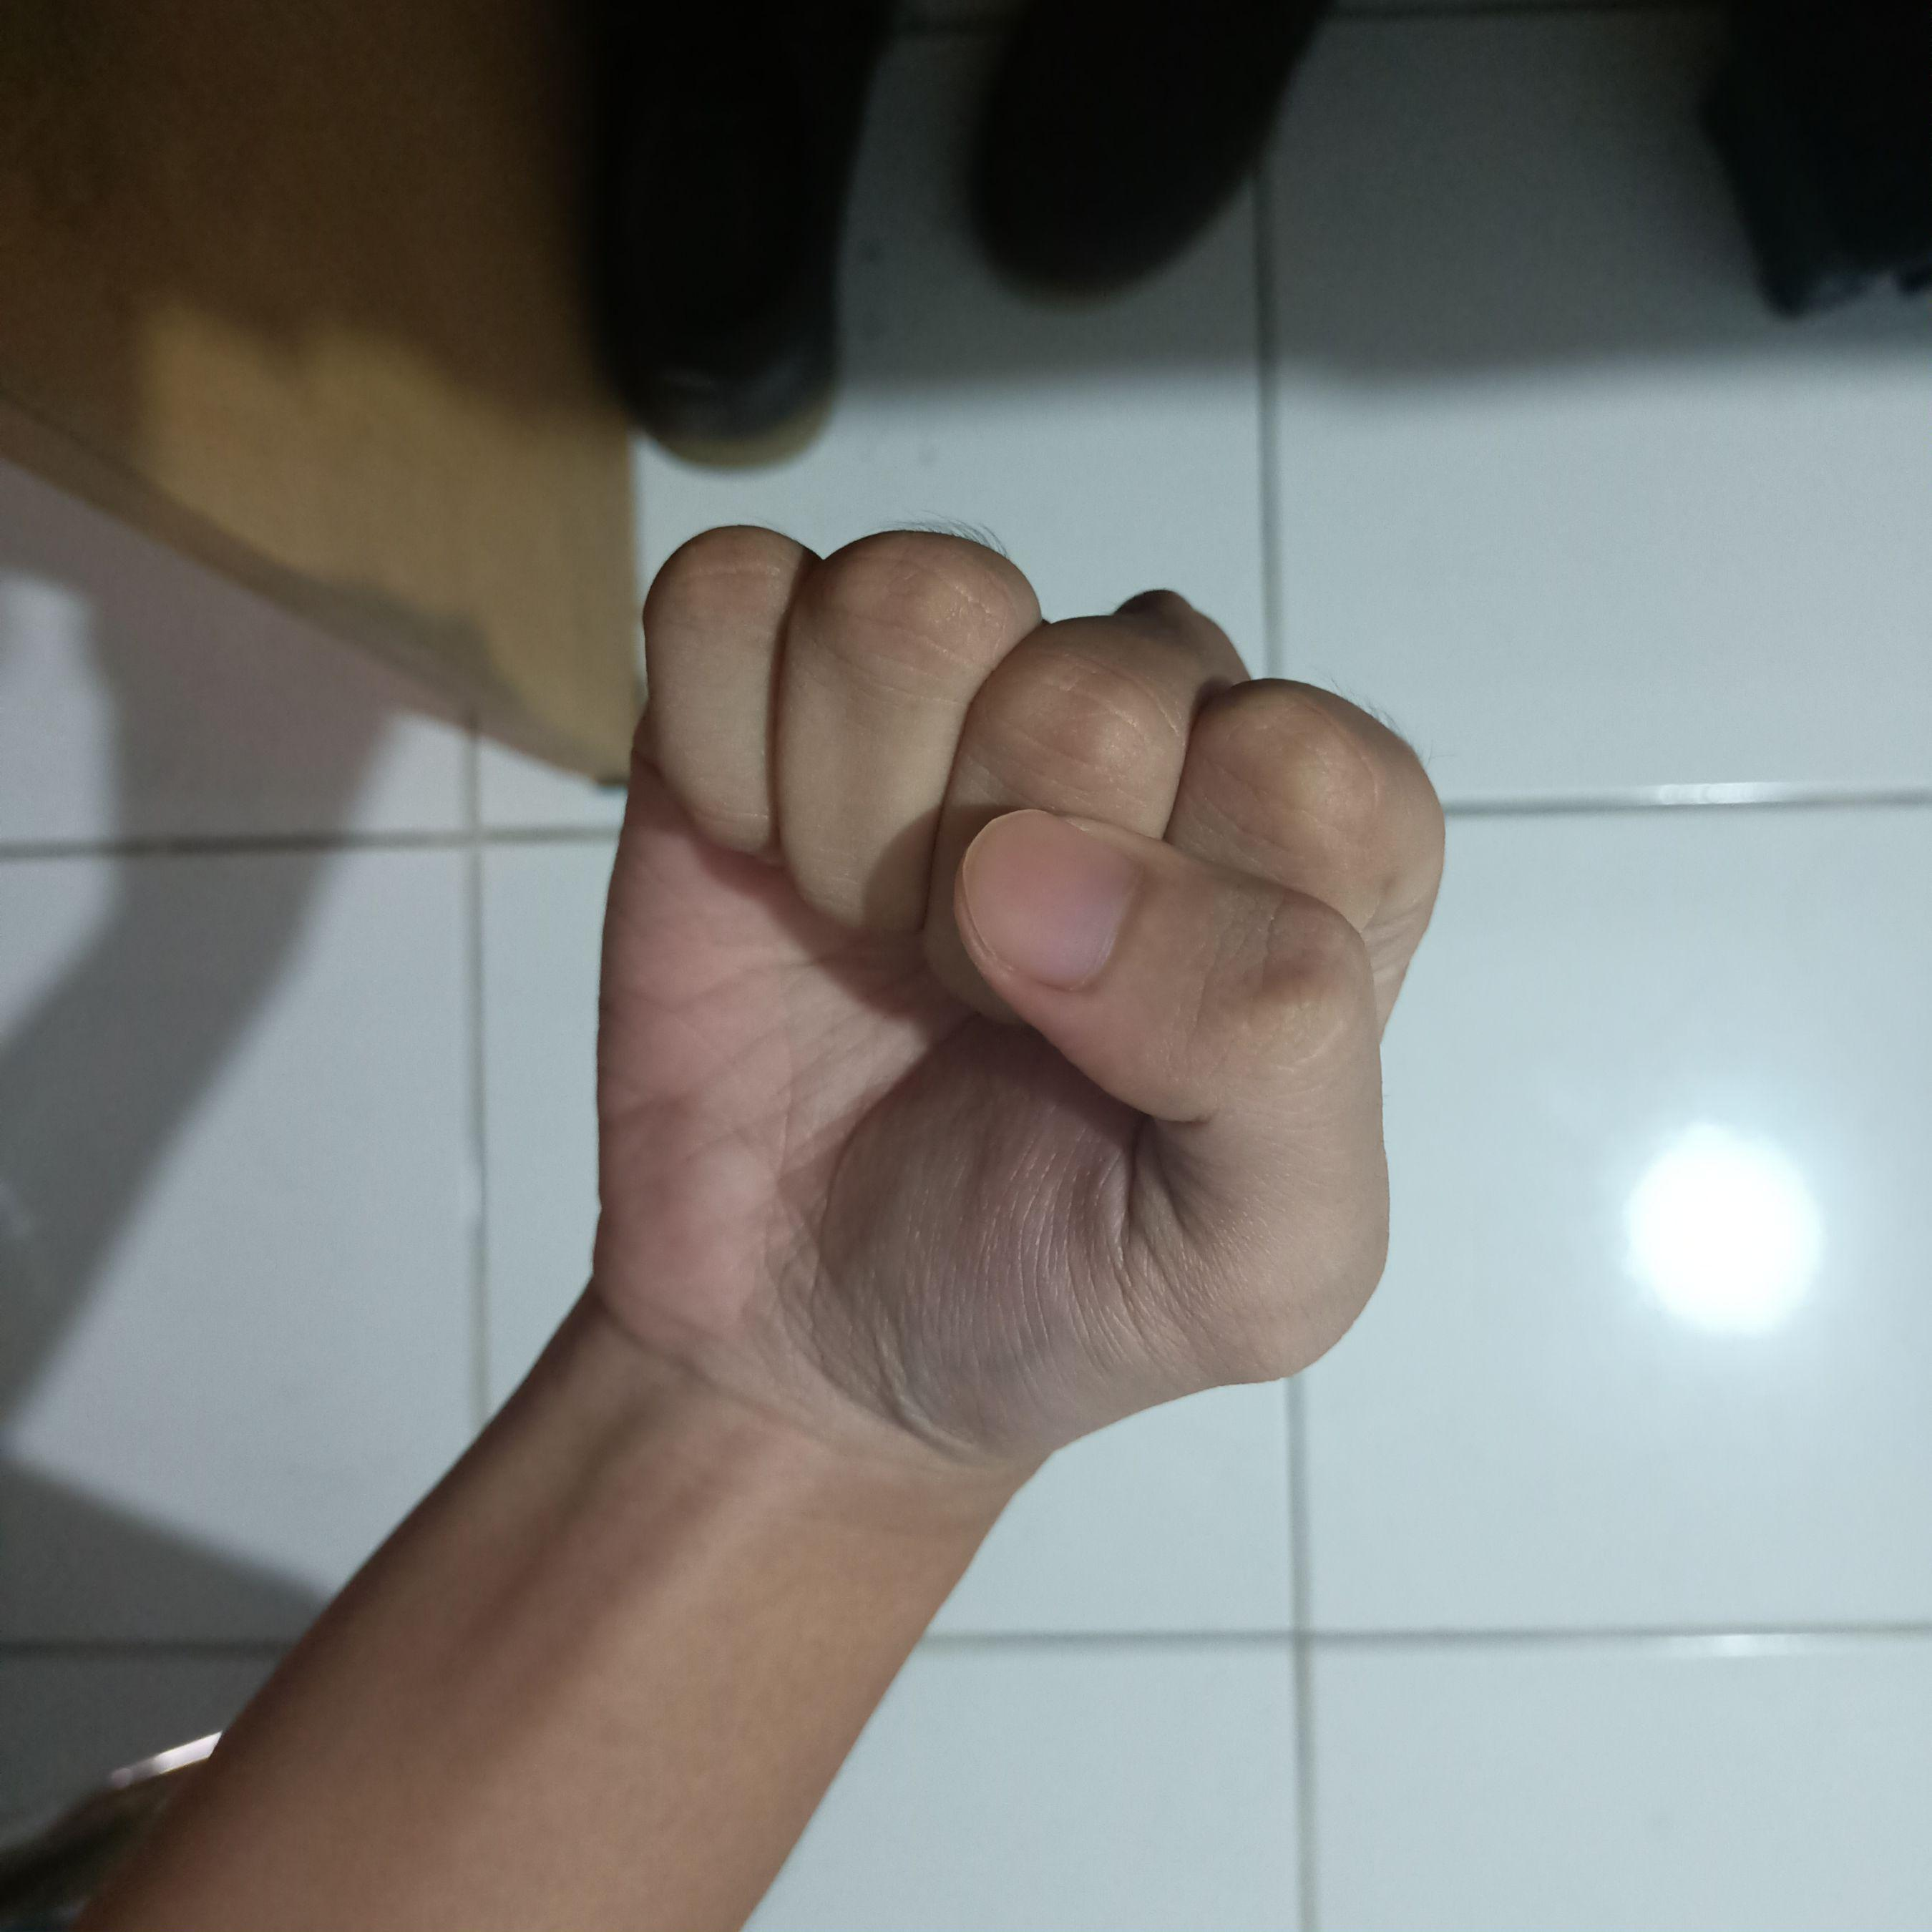rock: (568, 499, 1470, 1514)
